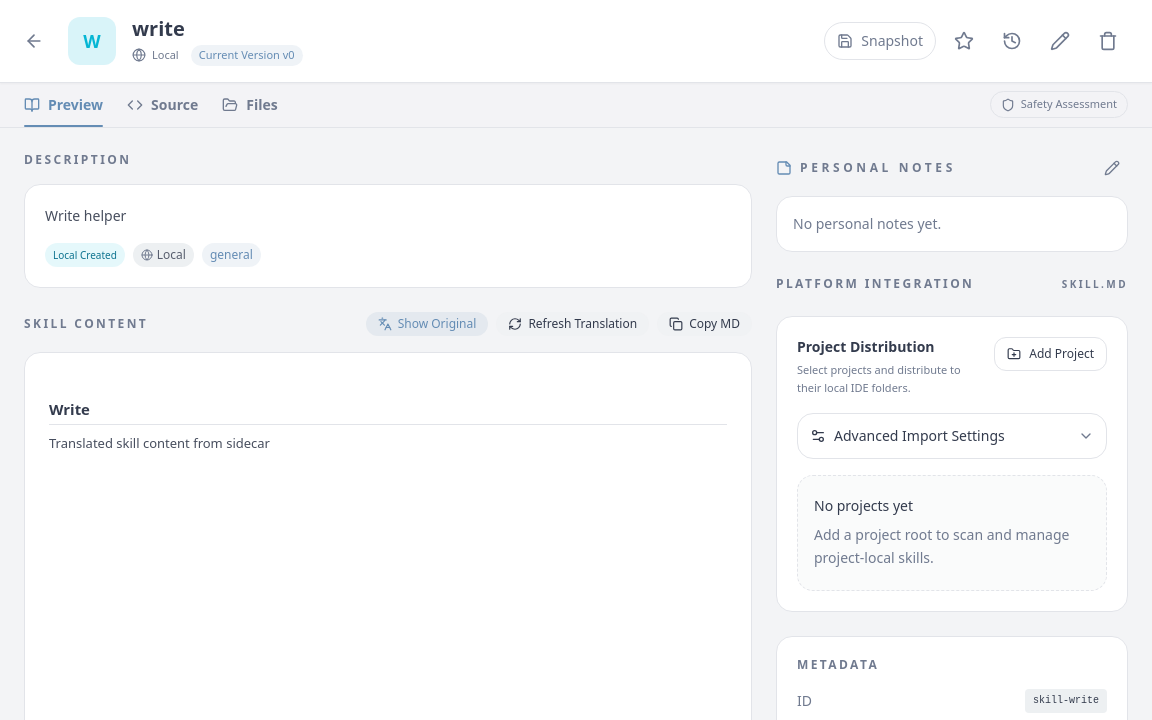
Scenario: skill i18n smoke › defaults to saved translation and toggles back to original content
Expected: the text "Translated skill content from sidecar" is shown, [49,434,270,452]
Expected: the text "Write helper" is shown, [45,206,126,224]
Click the button "Show Original". click: (427, 324)
box: [366,312,488,336]
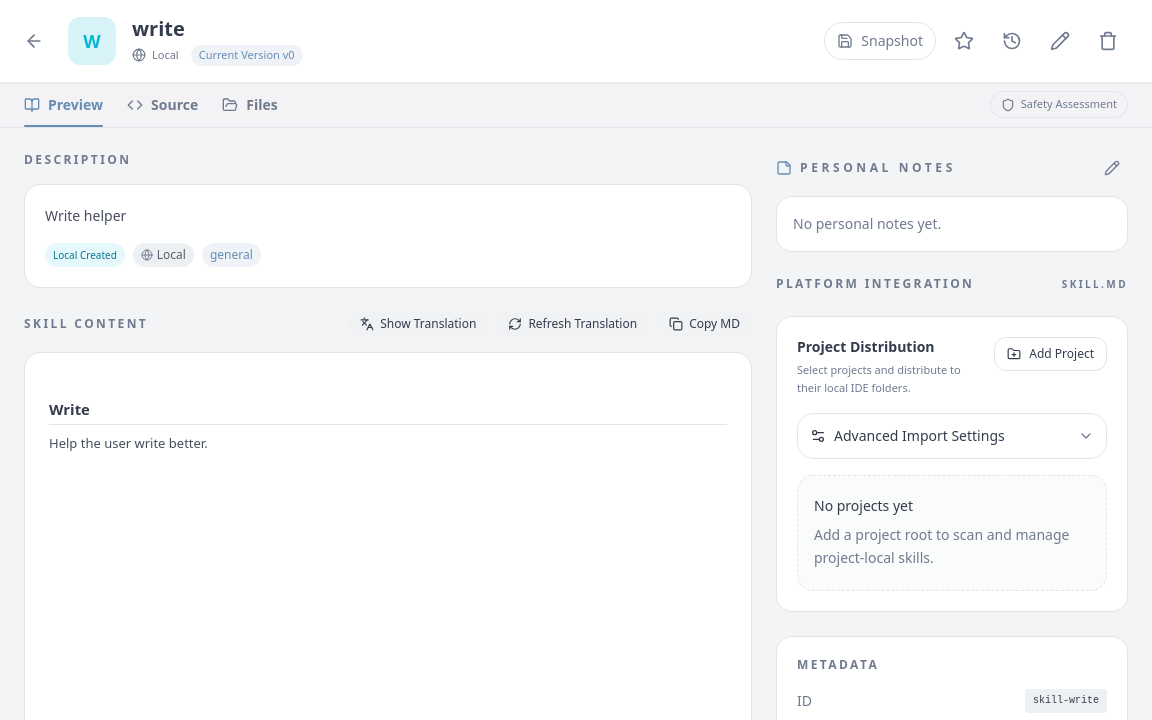
Expected: the button "Show Translation" is shown, [348,312,488,336]
Expected: the text "Help the user write better." is shown, [49,434,208,452]
